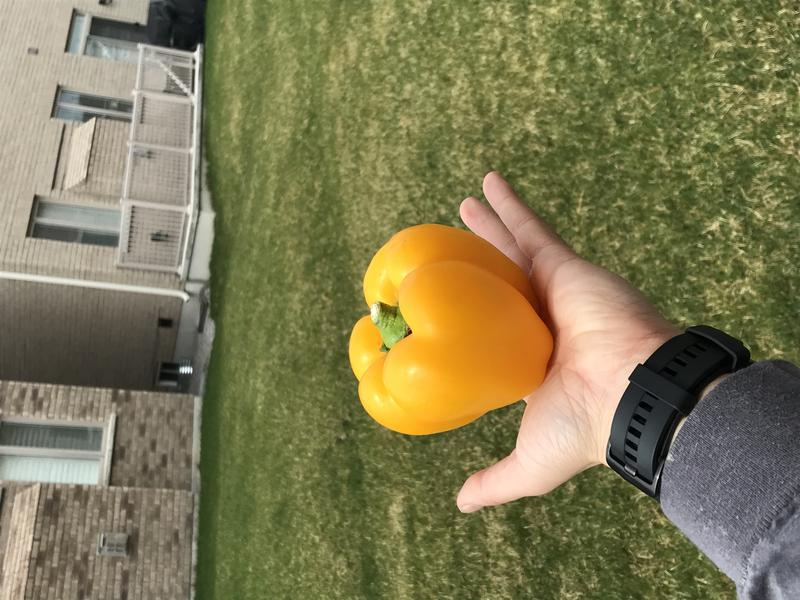yellow_pepper: (337, 213, 575, 448)
